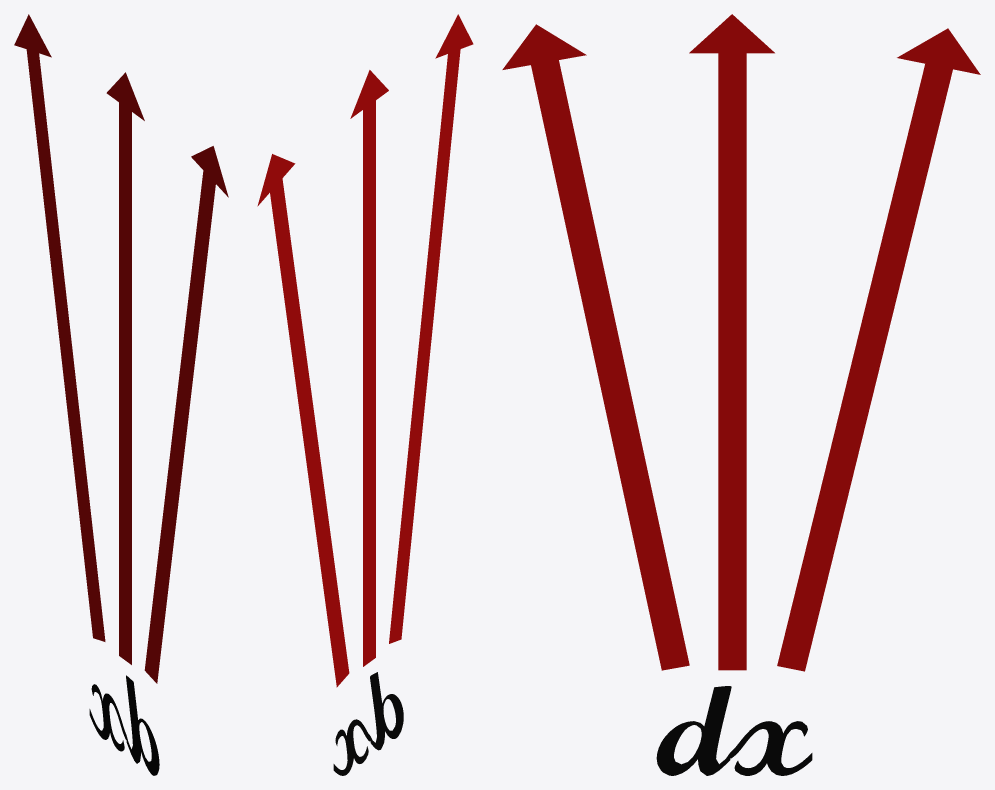
Rendered from dx flechas.FBX.
The picture shows the model from 3 angles, left to right: view 1: azimuth 30°, elevation 25°; view 2: azimuth 150°, elevation 25°; view 3: azimuth 270°, elevation 25°; orthographic projection. The views are drawn at different scales.
Visible parts, largest first — view 1: polySurface57, polySurface16, flecha:polySurface16, Trim_Char_d_1_1, Trim_Char_x_1_1; view 2: polySurface16, polySurface57, flecha:polySurface16, Trim_Char_d_1_1, Trim_Char_x_1_1; view 3: polySurface16, polySurface57, flecha:polySurface16, Trim_Char_d_1_1, Trim_Char_x_1_1.
Boxes of the visible parts, x1,y1,x2,y2 form: polySurface57: [14, 14, 105, 641]; polySurface16: [144, 146, 228, 683]; flecha:polySurface16: [106, 72, 144, 664]; Trim_Char_d_1_1: [126, 675, 159, 775]; Trim_Char_x_1_1: [89, 684, 126, 751]; polySurface16: [389, 14, 473, 643]; polySurface57: [257, 154, 349, 687]; flecha:polySurface16: [350, 70, 388, 666]; Trim_Char_d_1_1: [370, 672, 403, 750]; Trim_Char_x_1_1: [333, 719, 370, 775]; polySurface16: [502, 24, 689, 670]; polySurface57: [777, 28, 980, 671]; flecha:polySurface16: [689, 14, 774, 670]; Trim_Char_d_1_1: [656, 686, 731, 775]; Trim_Char_x_1_1: [730, 721, 812, 775].
Bounding box in the file's own units: 5.39e-08 × 4.94 × 2.81.
